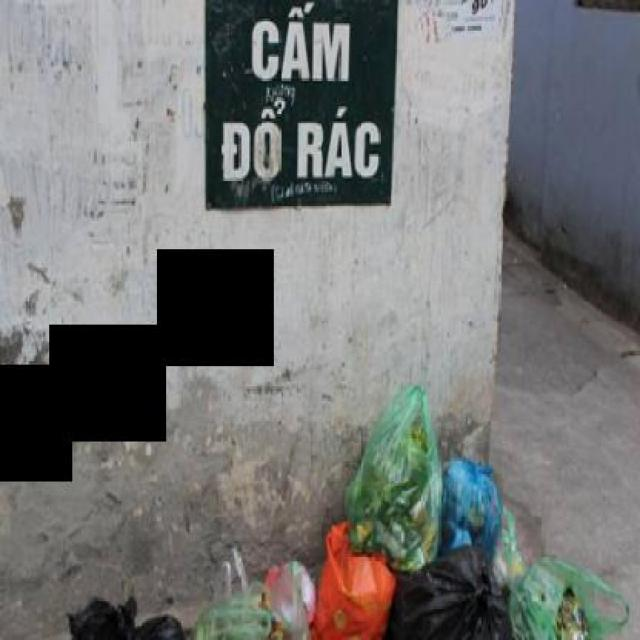plastic bag: (336, 371, 450, 572), (503, 546, 625, 639), (311, 511, 392, 638), (388, 557, 509, 638), (440, 452, 503, 557), (248, 543, 317, 623)
